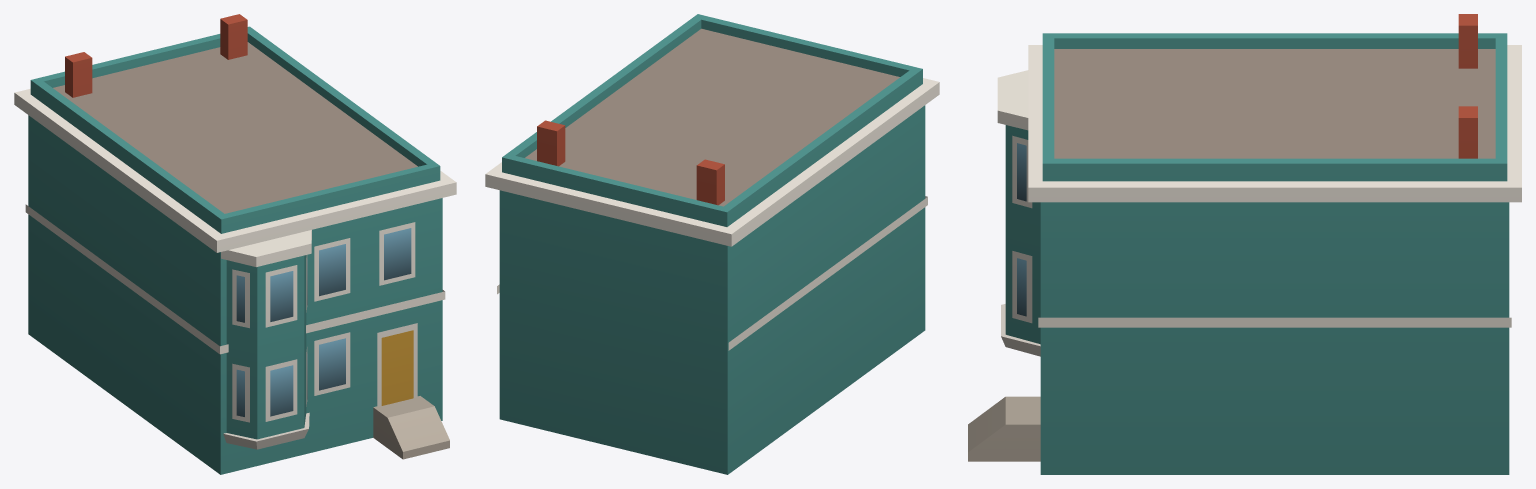
File: beacon_n13_far.glb
The picture shows the model from 3 angles, left to right: view 1: azimuth 30°, elevation 25°; view 2: azimuth 150°, elevation 25°; view 3: azimuth 270°, elevation 25°; orthographic projection. The views are drawn at different scales.
Visible parts, largest first — view 1: beacon_n13_far; view 2: beacon_n13_far; view 3: beacon_n13_far.
Boxes of the visible parts, x1,y1,x2,y2 form: beacon_n13_far: [14, 14, 456, 474]; beacon_n13_far: [485, 14, 939, 474]; beacon_n13_far: [968, 14, 1521, 474].
Size of the model in its own units: 8.64 by 9.69 by 14.18.
1 material, 1 textured.
